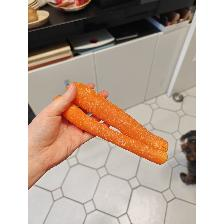Karotte: (51, 94, 168, 166), (64, 82, 170, 154)
